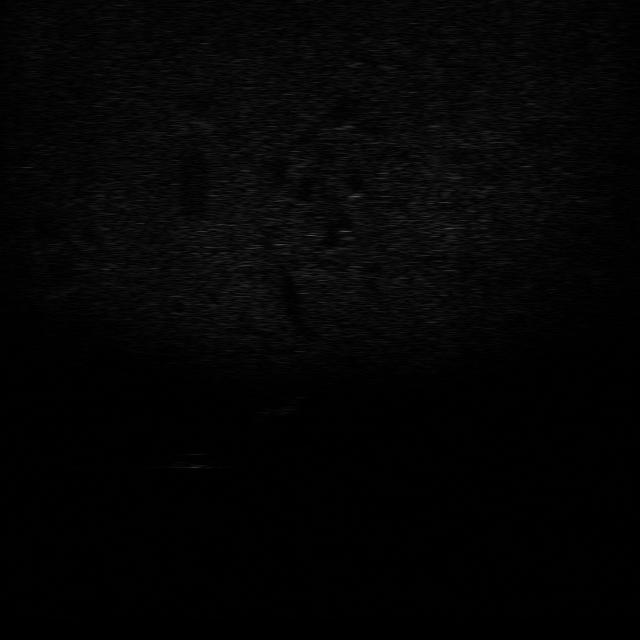ball: (168, 451, 214, 471)
human body: (250, 390, 309, 424)
